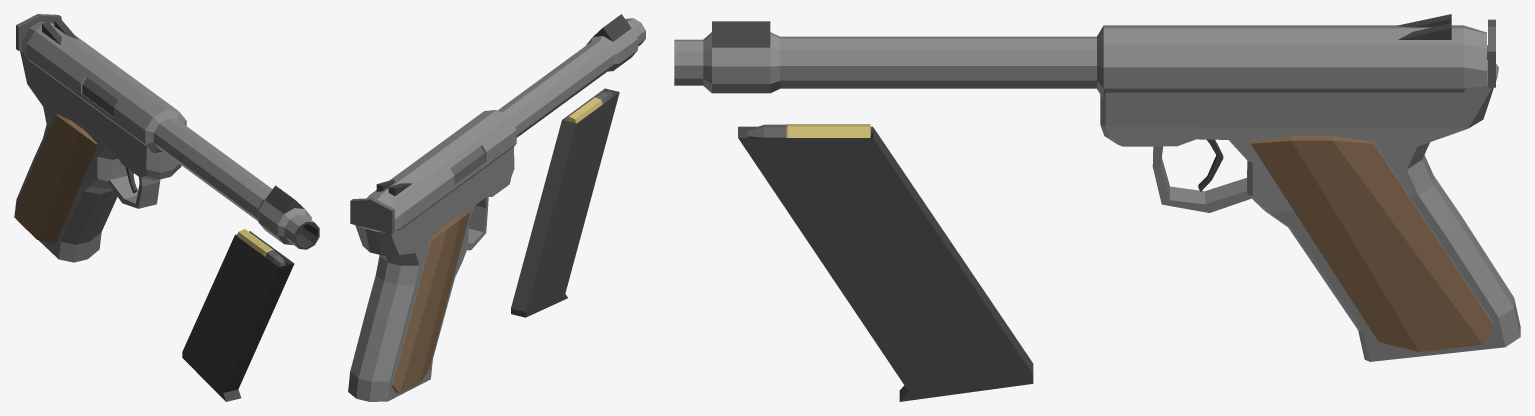
File: lowpoly-ruger-mockup__Ruger__Ruger__Ruger2222.glb
The picture shows the model from 3 angles, left to right: view 1: azimuth 30°, elevation 25°; view 2: azimuth 150°, elevation 25°; view 3: azimuth 270°, elevation 25°; orthographic projection. The views are drawn at different scales.
Visible parts, largest first — view 1: .22 Grip, .22 Magazine, ,22 Feeder, .22; view 2: .22 Grip, .22 Magazine, ,22 Feeder, .22; view 3: .22 Grip, .22 Magazine, .22.
Boxes of the visible parts, <box> form: .22 Grip: <box>14,19,319,262</box>; .22 Magazine: <box>182,231,294,401</box>; ,22 Feeder: <box>16,14,117,116</box>; .22: <box>237,229,285,266</box>; .22 Grip: <box>348,14,645,401</box>; .22 Magazine: <box>511,88,619,317</box>; ,22 Feeder: <box>350,146,485,233</box>; .22: <box>565,91,612,123</box>; .22 Grip: <box>674,14,1520,361</box>; .22 Magazine: <box>738,126,1033,401</box>; .22: <box>747,124,870,137</box>.
Bounding box in the file's own units: 1.09 × 5.02 × 10.28.
